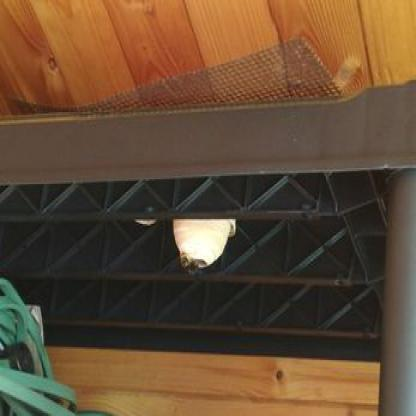Asian Hornet: (176, 248, 209, 280)
